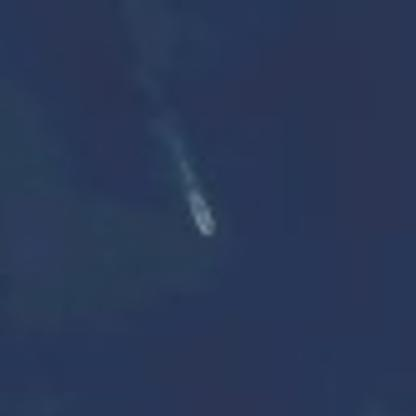ship: (175, 185, 225, 240)
